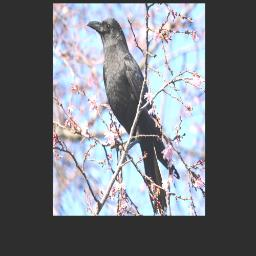Crow: (87, 16, 180, 212)
